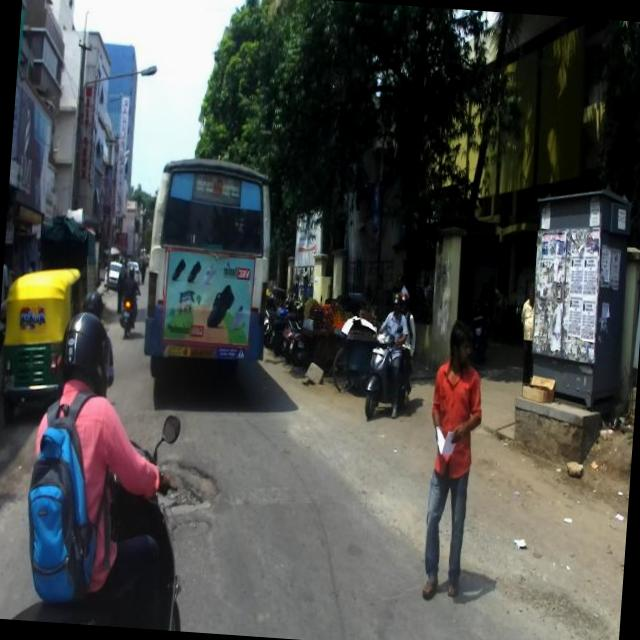pothole: (158, 414, 282, 523), (506, 540, 616, 640), (0, 432, 29, 516)
